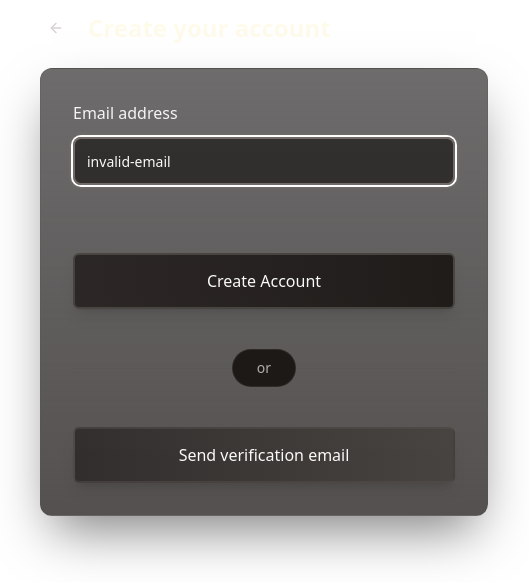
it: SignUpEmail › form validation › should show invalid email error when email format is invalid
Click the button "Create Account": (264, 281) 73,253 -> 455,309
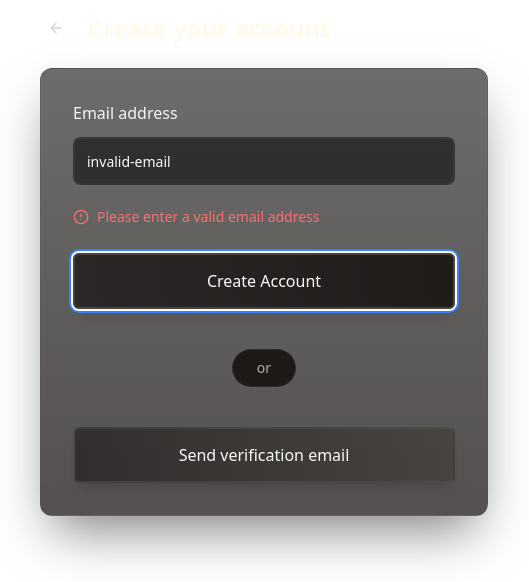
Expected: the text "Please enter a valid email address" is shown, 97,207 -> 320,227
